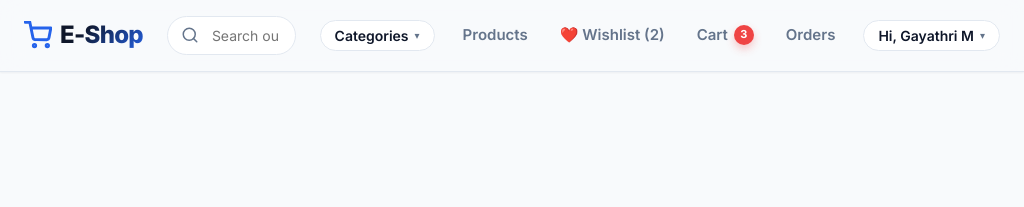
Scenario: Navbar Component tests › renders Categories dropdown and lists unique categories
Click the button with aria-label "Open categories menu".
click(377, 35)  # box [320, 20, 435, 50]
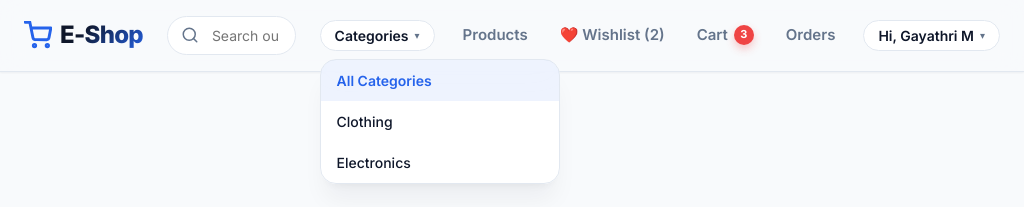
Expected: the button "All Categories" is shown, [321, 60, 559, 100]
Expected: the button "Electronics" is shown, [321, 142, 559, 182]
Expected: the button "Clothing" is shown, [321, 100, 559, 142]
